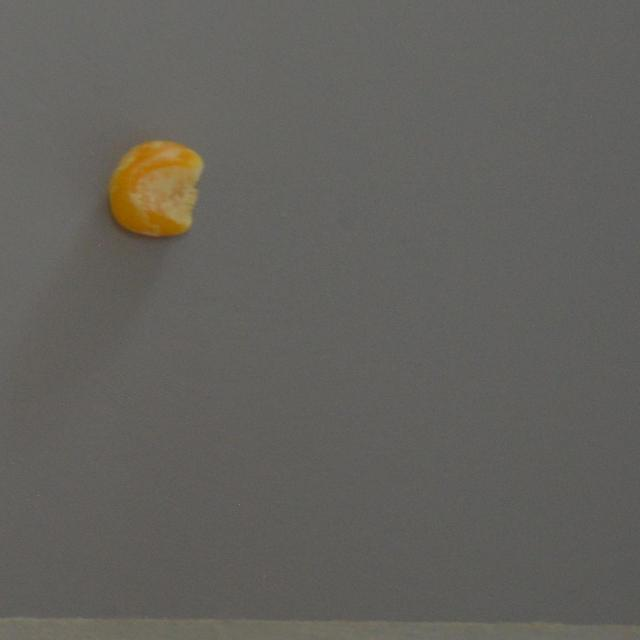pelicula: (108, 138, 204, 238)
